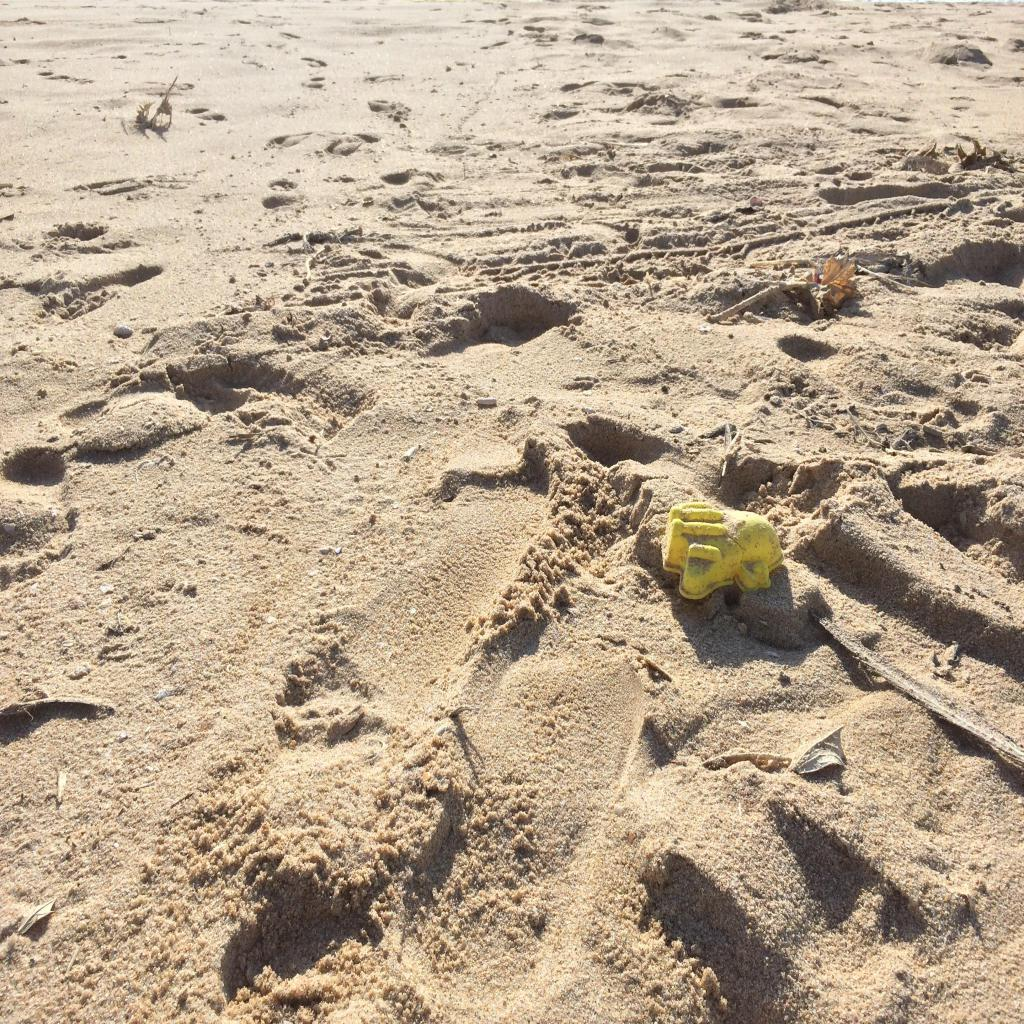Cigarette: (477, 399, 497, 404)
Other plastic bottle: (660, 502, 784, 600)
